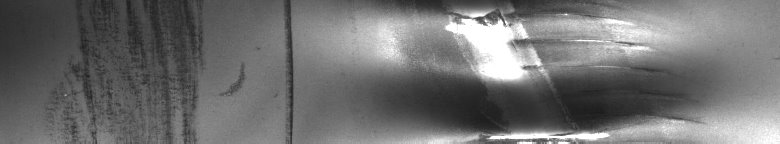ke: (436, 4, 690, 136)
